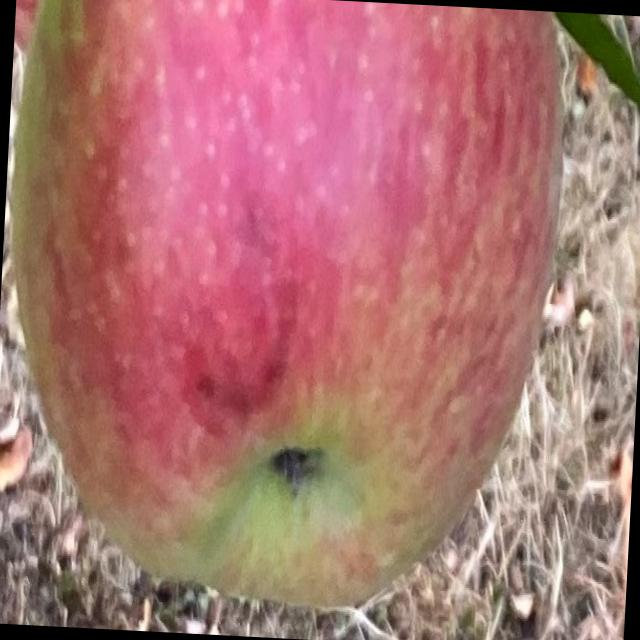Apples: (0, 0, 572, 618)
